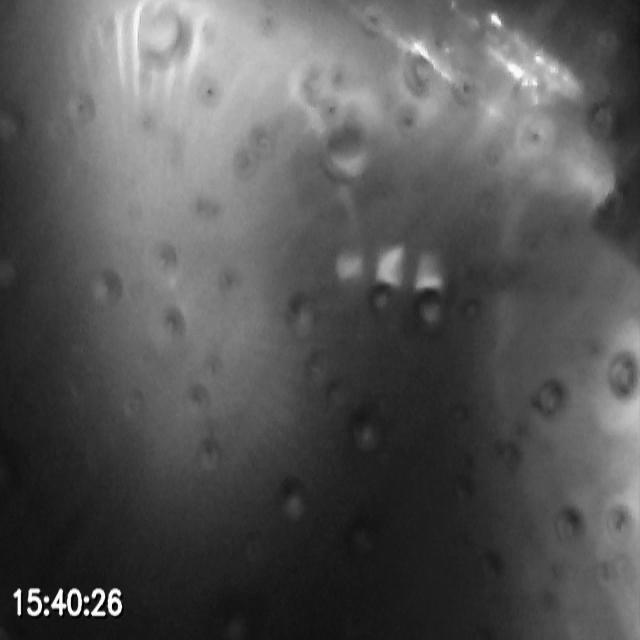white-dots: (330, 242, 445, 291)
